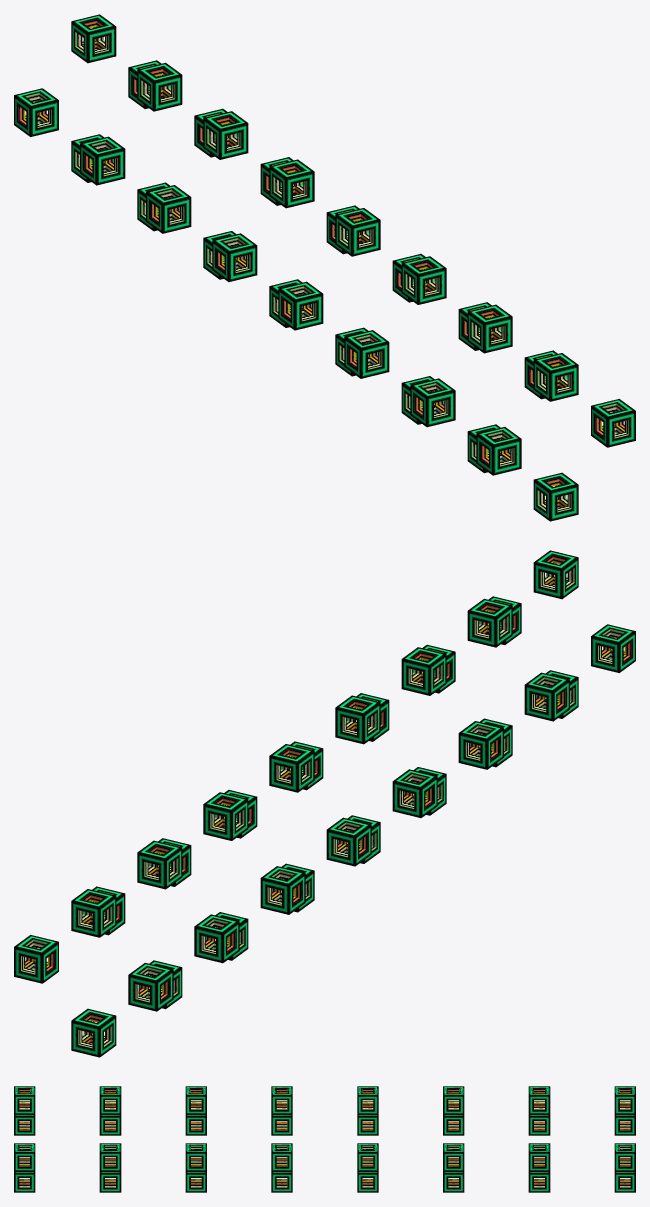
Rendered from hx_a_squares_201B.glb.
3 views of the same model, one above another, from view 1: azimuth 30°, elevation 25°; view 2: azimuth 150°, elevation 25°; view 3: azimuth 270°, elevation 25° (orthographic). The views are drawn at different scales.
Visible parts, largest first — view 1: h_cube-S 0 (×8), h_cube-S 3 (×8), h_cube-S 2, h_cube-S 1; view 2: h_cube-S 0 (×8), h_cube-S 3 (×8), h_cube-S 2, h_cube-S 1; view 3: h_cube-S 0 (×8), h_cube-S 1 (×8), h_cube-S 2 (×8), h_cube-S 3 (×8).
Boxes of the visible parts, x1,y1,x2,y2 form: h_cube-S 0 (×8): (71,14,578,401); h_cube-S 3 (×8): (14,88,521,475); h_cube-S 2: (533,472,578,521); h_cube-S 1: (591,399,635,447); h_cube-S 0 (×8): (71,550,578,937); h_cube-S 3 (×8): (128,624,635,1011); h_cube-S 2: (71,1008,116,1057); h_cube-S 1: (14,935,58,983); h_cube-S 0 (×8): (14,1086,635,1114); h_cube-S 1 (×8): (14,1143,635,1171); h_cube-S 2 (×8): (14,1172,635,1192); h_cube-S 3 (×8): (14,1115,635,1135).
Size of the model in its own units: 12.5 by 12.5 by 72.5.
1 material, 1 textured.
